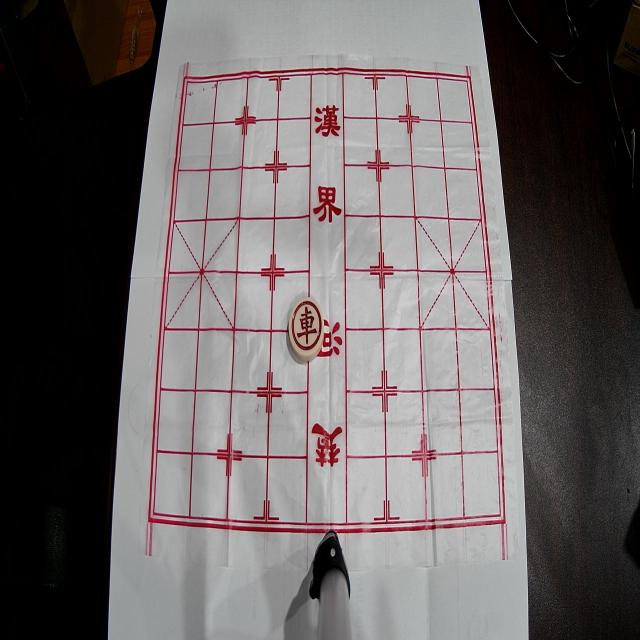red-chariot: (288, 298, 324, 362)
